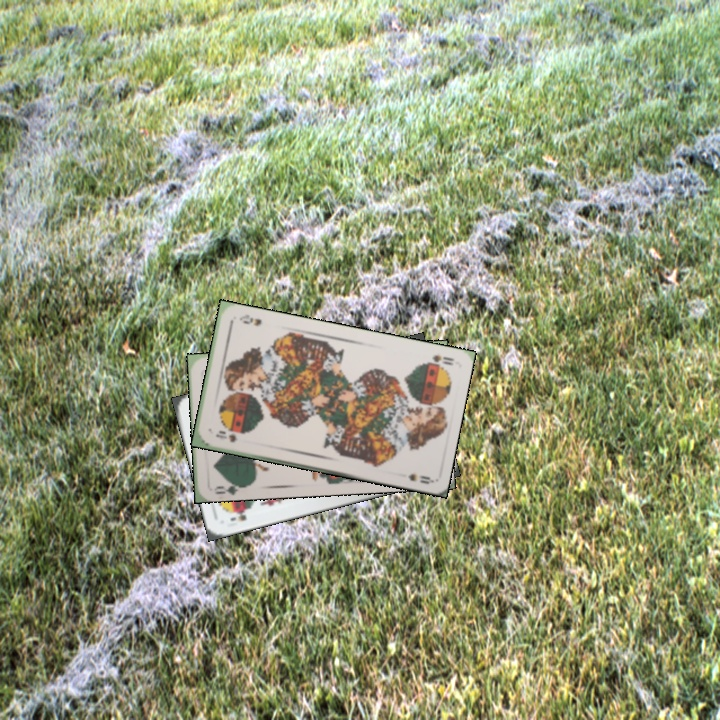GO: (210, 476, 250, 497)
SK: (226, 507, 249, 524)
SO: (212, 426, 239, 445), (428, 351, 457, 368)
